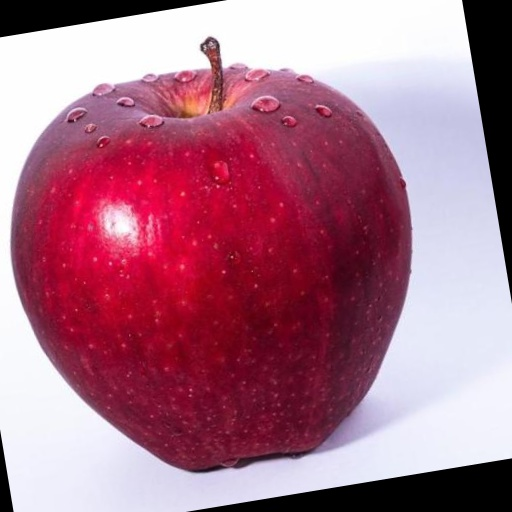fruit: (11, 38, 411, 470)
